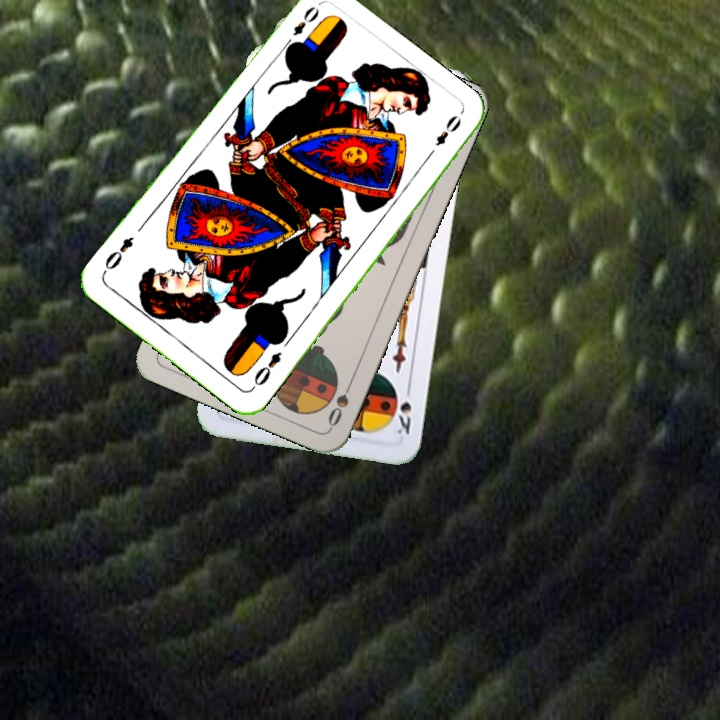EO: (280, 2, 323, 52), (247, 347, 285, 392)
SK: (391, 380, 415, 437)
SO: (323, 374, 357, 430)
